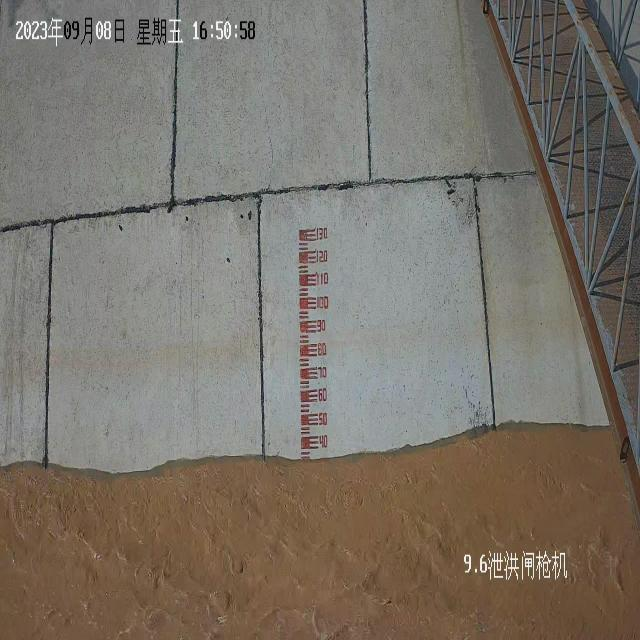ruler: (296, 219, 334, 457)
value: (314, 224, 330, 244), (314, 247, 330, 267), (316, 292, 330, 312), (316, 339, 329, 359), (315, 270, 329, 288), (317, 408, 329, 429), (318, 431, 329, 451), (316, 364, 328, 382), (317, 386, 329, 404), (316, 317, 327, 335)
